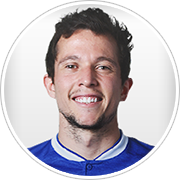face: (40, 39, 136, 130)
